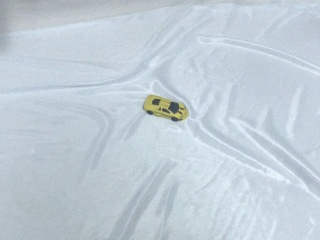toy_car: (143, 95, 188, 122)
